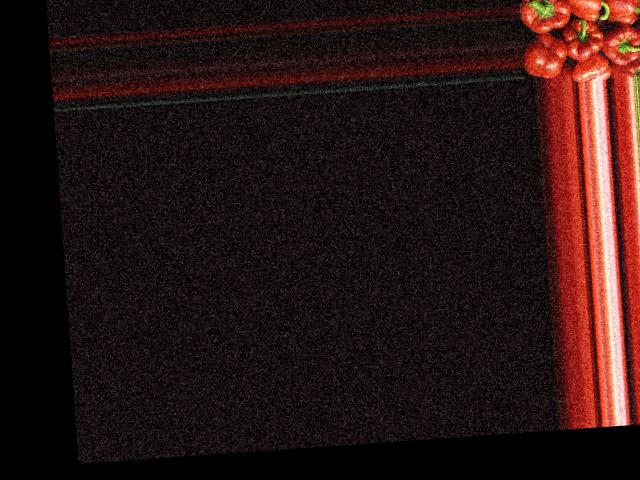bell_pepper: (569, 56, 610, 81)
